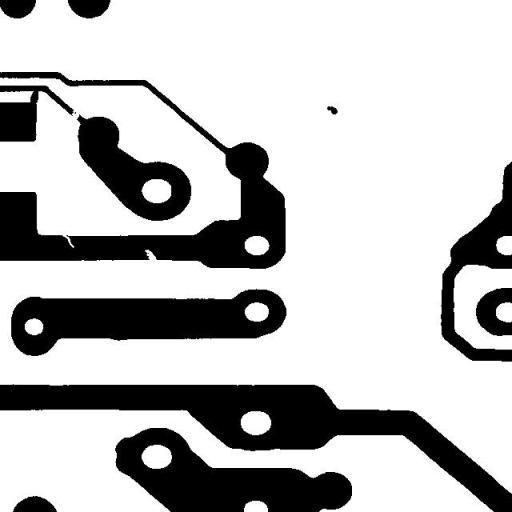copper: (319, 98, 345, 122)
mousebite: (54, 226, 82, 256), (137, 242, 164, 270)
open: (64, 102, 87, 128)
short: (22, 82, 46, 114)
